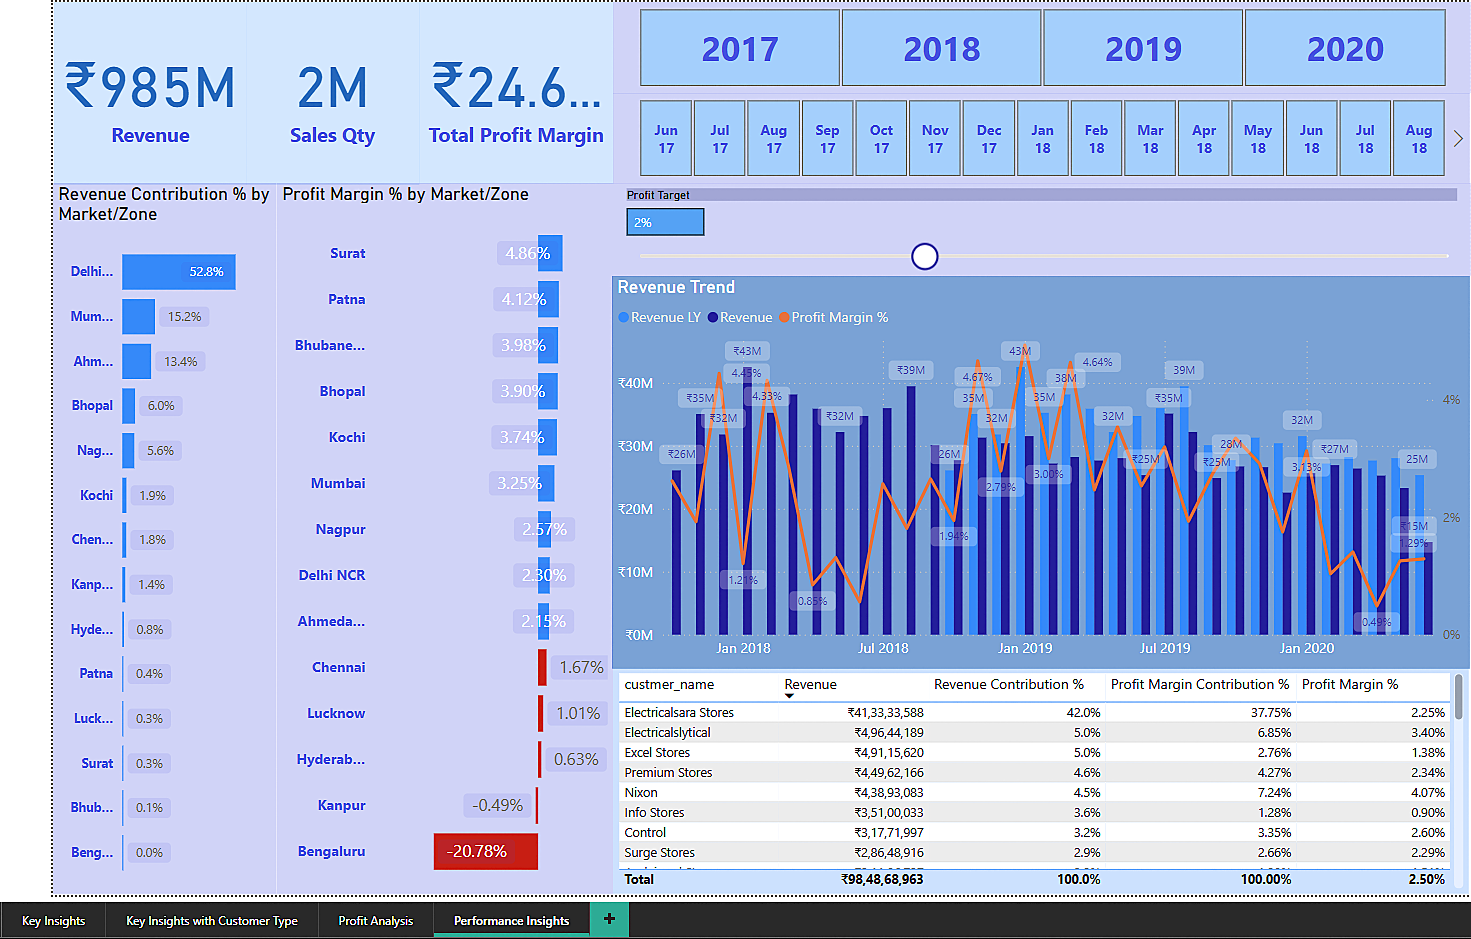

This screenshot's page, from the dashboard's own definition file:
{"tool":"powerbi","page":{"name":"Performance Insights","canvas":[1350,850],"ordinal":3},"visuals":[{"type":"card","fields":{"Values":["BaseMeasures.Revenue"]},"box":[1.4,0,183.1,173.5],"z":0},{"type":"card","fields":{"Values":["BaseMeasures.Sales Qty"]},"box":[183.7,0,164.5,173.6],"z":1000},{"type":"slicer","fields":{"Values":["sales date.year"]},"box":[533.6,0,816.5,86.9],"z":2000},{"type":"slicer","fields":{"Values":["sales date.cy_date"]},"box":[533.3,86.7,816.2,85.7],"z":3000},{"type":"tableEx","title":"Top 5 Customers","fields":{"Values":["sales customers.custmer_name","BaseMeasures.Revenue","BaseMeasures.Revenue Contribution %","BaseMeasures.Profit Margin Contribution %","BaseMeasures.Profit Margin %"]},"box":[533.6,634.6,815.5,215.2],"z":4000},{"type":"lineClusteredColumnComboChart","title":"Revenue Trend","fields":{"Category":["sales date.cy_date"],"Y":["BaseMeasures.Revenue LY","BaseMeasures.Revenue"],"Y2":["BaseMeasures.Profit Margin %"]},"box":[532.5,260.7,816.5,373.9],"z":5000},{"type":"card","fields":{"Values":["BaseMeasures.total profit margin"]},"box":[348.6,0,184.9,172.8],"z":6000},{"type":"barChart","title":"Revenue Contribution % by Market/Zone","fields":{"Category":["sales markets.zone","sales markets.markets_name"],"Y":["BaseMeasures.Revenue Contribution %"]},"box":[0,172.8,213.2,677.1],"z":7000},{"type":"barChart","title":"Profit Margin % by Market/Zone","fields":{"Category":["sales markets.zone","sales markets.markets_name","sales customers.custmer_name"],"Y":["BaseMeasures.Profit Margin %"]},"box":[213.2,172.8,320.3,677.1],"z":8000},{"type":"slicer","fields":{"Values":["Profit Target.Profit Target"]},"box":[533.3,172.4,817.1,88.6],"z":9000}]}

Visuals, with their boxes on the page's 1350x850 design canvas (x1, y1, x2, y2). These are canvas units, not pixel positions in the 1471x939 screenshot, which may show the page scaled, cropped or inside an application window:
card - BaseMeasures.Revenue: 1, 0, 184, 174
card - BaseMeasures.Sales Qty: 184, 0, 348, 174
slicer - sales date.year: 534, 0, 1350, 87
slicer - sales date.cy_date: 533, 87, 1350, 172
"Top 5 Customers" tableEx: 534, 635, 1349, 850
"Revenue Trend" lineClusteredColumnComboChart: 532, 261, 1349, 635
card - BaseMeasures.total profit margin: 349, 0, 534, 173
"Revenue Contribution % by Market/Zone" barChart: 0, 173, 213, 850
"Profit Margin % by Market/Zone" barChart: 213, 173, 534, 850
slicer - Profit Target.Profit Target: 533, 172, 1350, 261
